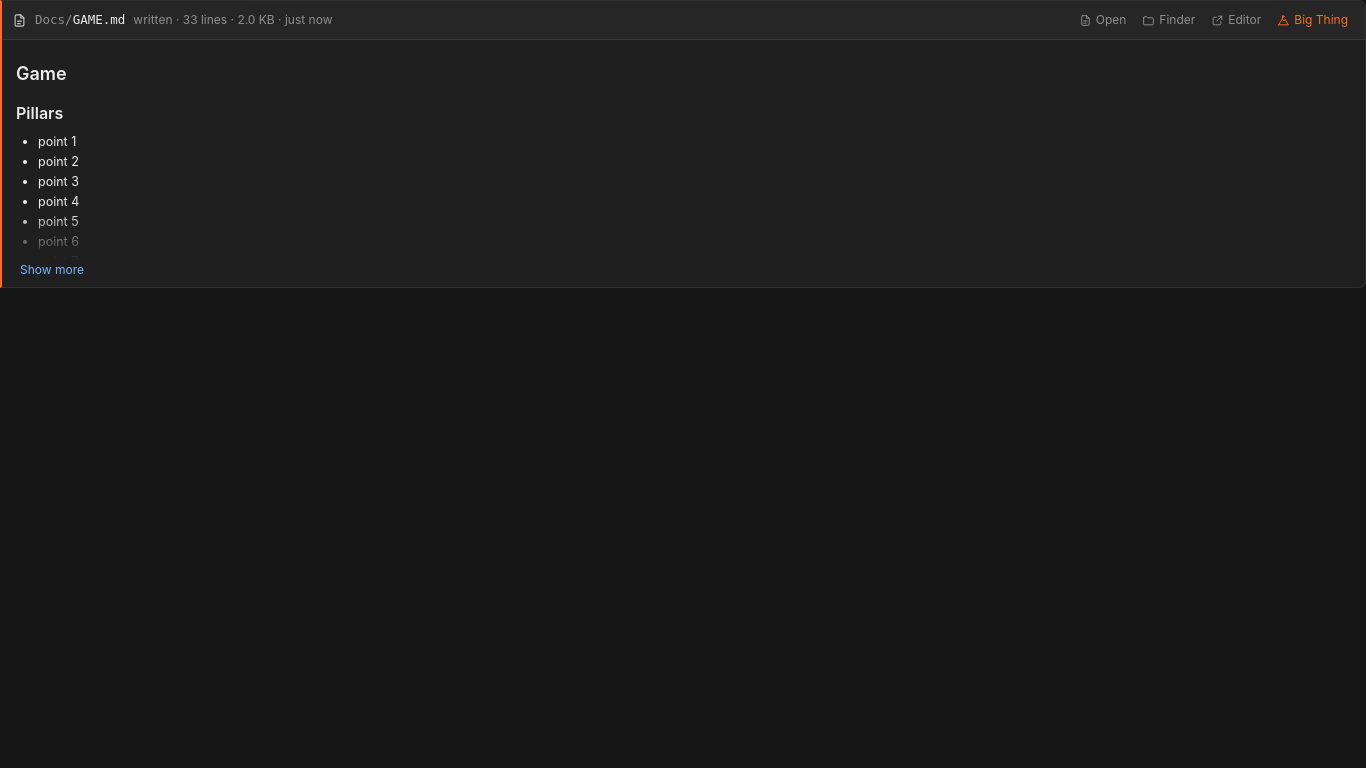
a document card › shows the top of the document, and opens the whole of it
The image size is (1366, 768).
Expected: the text "GAME.md" is shown, [73,12,125,27]
Expected: the text "written · 33 lines · 2.0 KB · just now" is shown, [133,11,332,29]
Click the button "Show more": [52, 270] box [16,261,88,279]
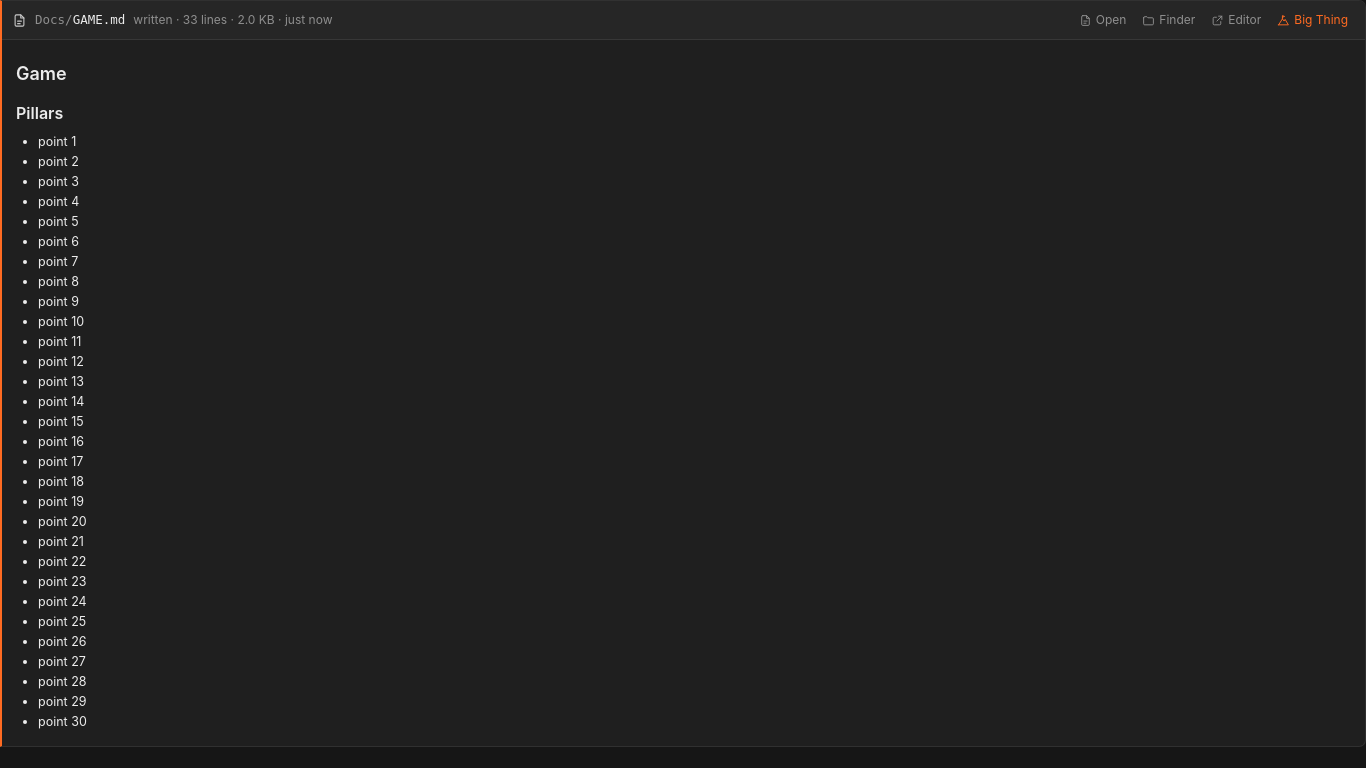
Now the list item "point 30" is shown, box [38,714,87,729]
Click the button "Open": [1102, 20] box [1072,8,1133,32]
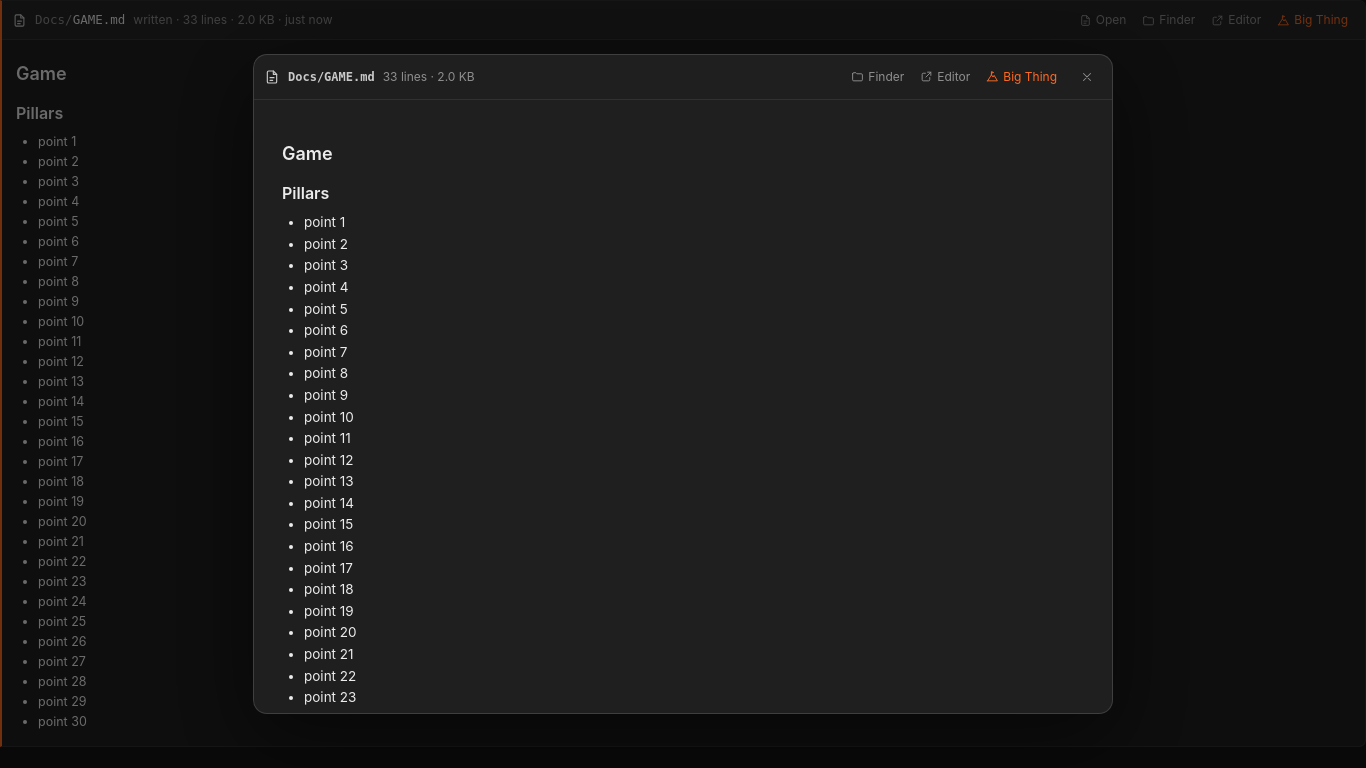
Now the dialog "Docs/GAME.md" is shown
